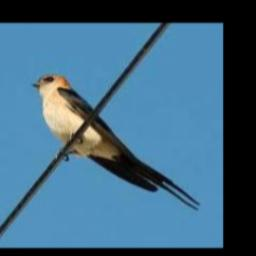Swallow: (31, 74, 201, 211)
